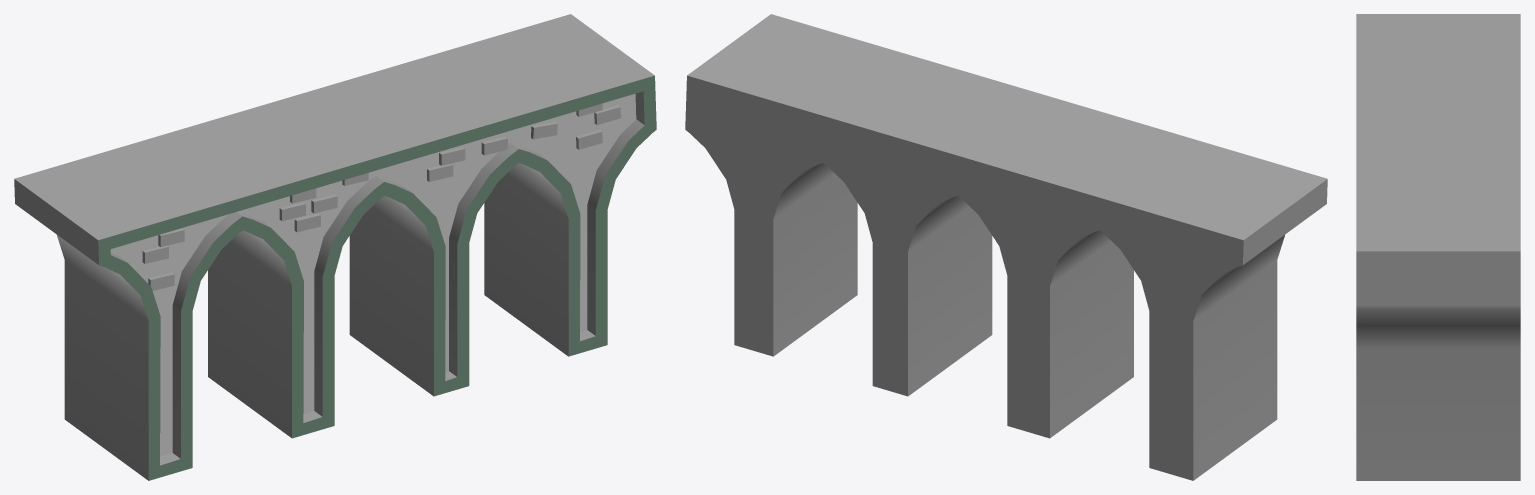
The model's file is Aquaduct.fbx.
3 views of the same model, side by side, from view 1: azimuth 30°, elevation 25°; view 2: azimuth 150°, elevation 25°; view 3: azimuth 270°, elevation 25° (orthographic). The views are drawn at different scales.
Parts seen in each view (by area): view 1: Aquaduct; view 2: Aquaduct; view 3: Aquaduct.
Boxes of the visible parts, box(x1,y1,x2,y2) form: Aquaduct: box(14, 14, 656, 480); Aquaduct: box(685, 14, 1327, 480); Aquaduct: box(1356, 14, 1520, 480).
Bounding box in the file's own units: 23.35 × 11.26 × 6.09.
